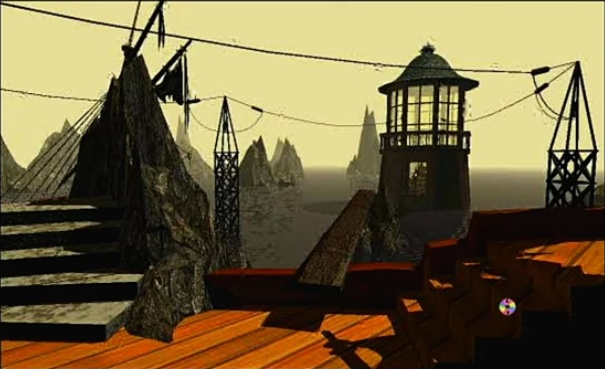Waiting: (494, 293, 520, 317)
